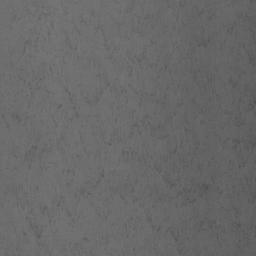Silk spot: (2, 0, 256, 256), (91, 175, 189, 254), (4, 184, 80, 249), (12, 6, 55, 58), (63, 232, 108, 256), (176, 30, 210, 61), (120, 8, 153, 36), (191, 69, 219, 101), (178, 85, 196, 106), (192, 7, 215, 20)
